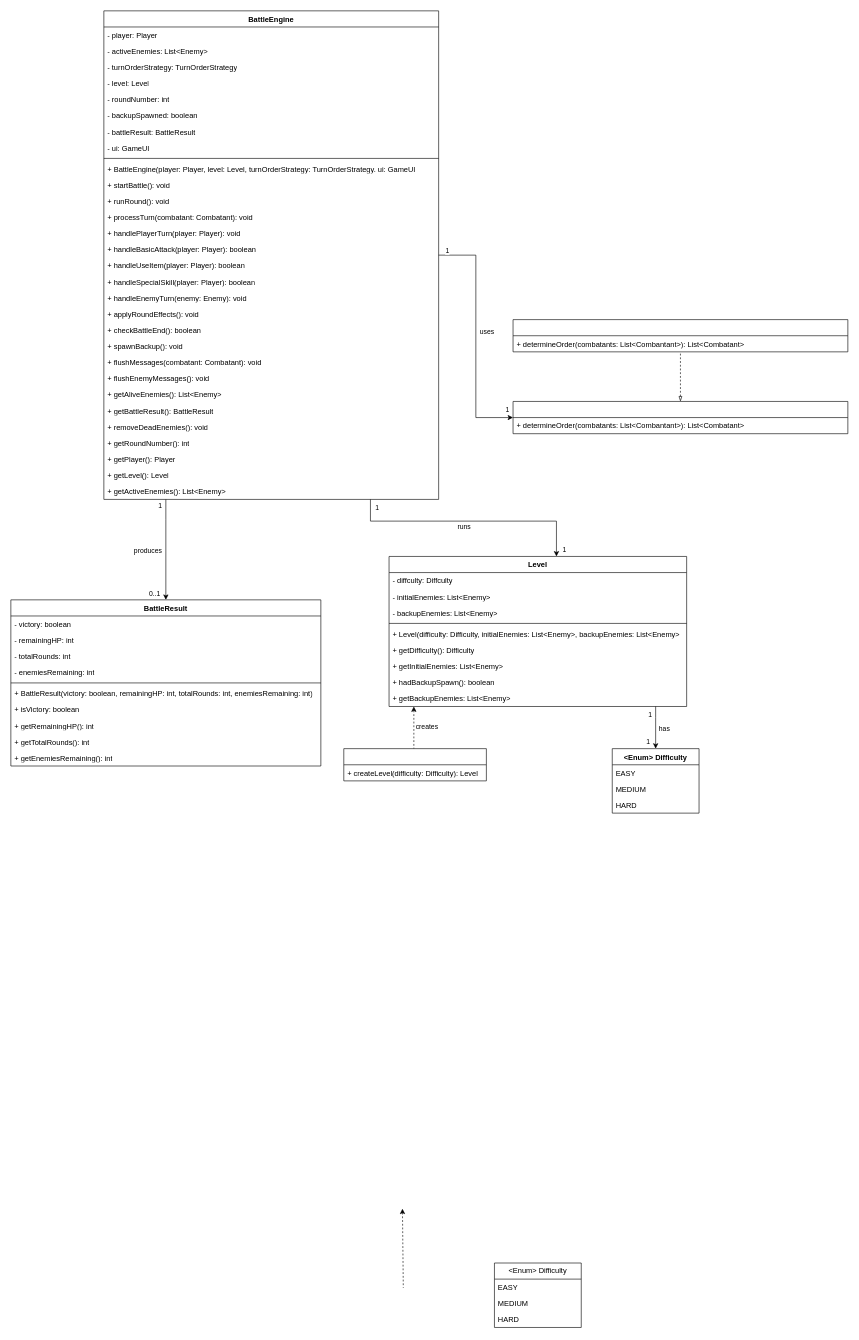
The diagram is 859 pixels wide and 1340 high, and some of its shapes have lost their labels. Each missing label, with the box of its shape:
<Interface> TurnOrderStrategy: (512, 401, 848, 434)
LevelFactory: (343, 748, 486, 781)
SpeedTurnOrder: (512, 319, 848, 352)
